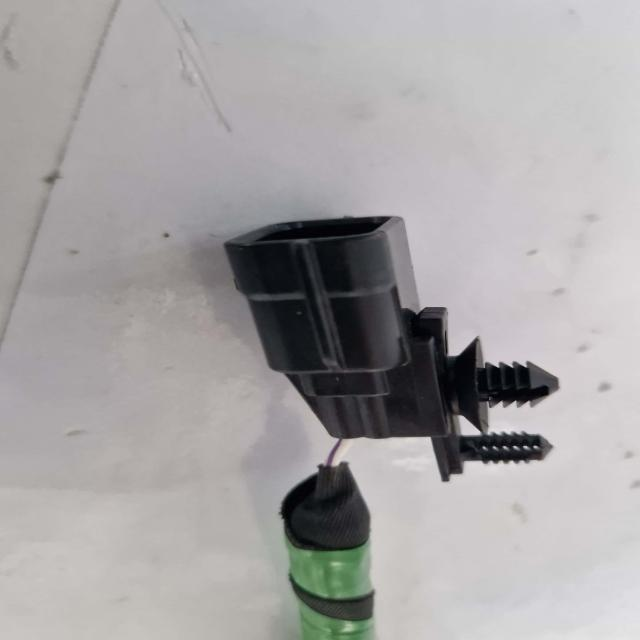AJ20_D6_Cable: (280, 462, 373, 640)
Clip: (451, 338, 558, 462)
Connector: (224, 216, 451, 439)
Gape: (324, 439, 355, 466)
